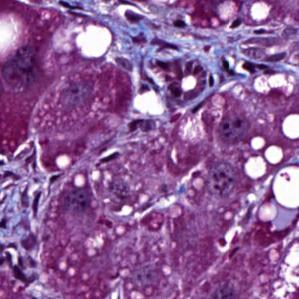inflammation: (124, 114, 161, 141)
